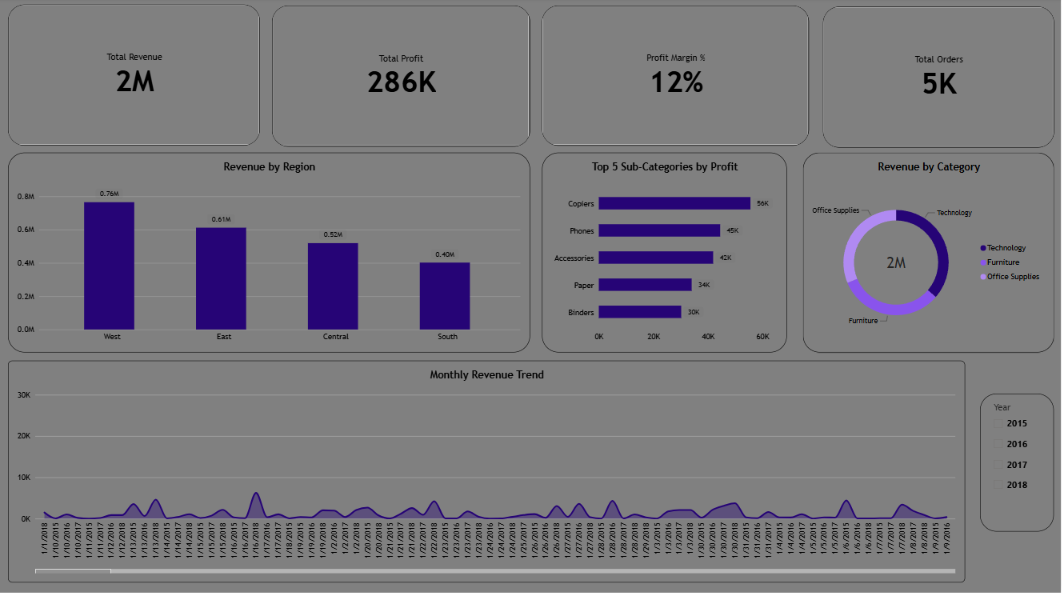

The page's visual inventory and layout, read from the dashboard file:
{"tool":"powerbi","page":{"name":"Page 1","canvas":[1920,1080],"ordinal":0},"visuals":[{"type":"cardVisual","fields":{"Data":["KeyMeasures (2).Total Revenue"]},"box":[14.5,12.7,456,255.2],"z":0},{"type":"cardVisual","fields":{"Data":["KeyMeasures (2).Profit Margin %"]},"box":[980.8,14.5,483.2,253.4],"z":1000},{"type":"cardVisual","fields":{"Data":["KeyMeasures (2).Total Orders"]},"box":[1489.4,16.3,418,255.2],"z":2000},{"type":"areaChart","title":"Monthly Revenue Trend","fields":{"Category":["fact_sales.YearMonth"],"Y":["KeyMeasures (2).Total Revenue"]},"box":[14.5,656.9,1731.8,401.7],"z":3000},{"type":"donutChart","title":"Revenue by Category","fields":{"Category":["dim_product.Category"],"Y":["KeyMeasures (2).Total Revenue"]},"box":[1453.2,280.5,454.2,361.9],"z":4000},{"type":"clusteredBarChart","title":"Top 5 Sub-Categories by Profit","fields":{"Category":["dim_product.Sub-Category"],"Y":["KeyMeasures (2).Total Profit"]},"box":[980.8,280.5,443.4,361.9],"z":5000},{"type":"clusteredColumnChart","title":"Revenue by Region","fields":{"Category":["dim_customer.Region"],"Y":["KeyMeasures (2).Total Revenue"]},"box":[14.5,280.5,944.6,361.9],"z":6000},{"type":"slicer","fields":{"Values":["fact_sales.Year"]},"box":[1773.5,716.6,133.9,249.7],"z":7000},{"type":"cardVisual","fields":{"Data":["KeyMeasures (2).Total Profit"]},"box":[492.2,14.5,466.9,255.2],"z":8000}]}

Visuals, with their boxes in screenshot pixels (x1, y1, x2, y2), scaled from the page's 1920x1080 canvas onto the 1062x593 screenshot:
cardVisual - KeyMeasures (2).Total Revenue: box(8, 7, 260, 147)
cardVisual - KeyMeasures (2).Profit Margin %: box(543, 8, 810, 147)
cardVisual - KeyMeasures (2).Total Orders: box(824, 9, 1055, 149)
"Monthly Revenue Trend" areaChart: box(8, 361, 966, 581)
"Revenue by Category" donutChart: box(804, 154, 1055, 353)
"Top 5 Sub-Categories by Profit" clusteredBarChart: box(543, 154, 788, 353)
"Revenue by Region" clusteredColumnChart: box(8, 154, 531, 353)
slicer - fact_sales.Year: box(981, 393, 1055, 531)
cardVisual - KeyMeasures (2).Total Profit: box(272, 8, 531, 148)
